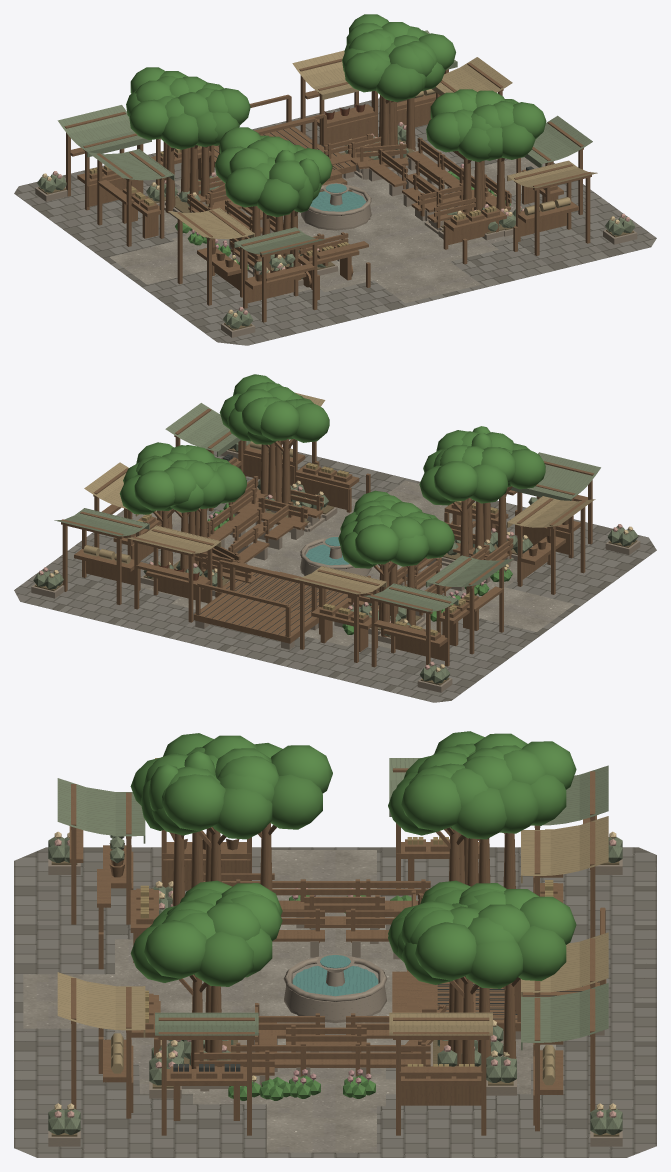
Rendered from civic.glb.
3 views of the same model, one above another, from view 1: azimuth 30°, elevation 25°; view 2: azimuth 150°, elevation 25°; view 3: azimuth 270°, elevation 25° (orthographic). The views are drawn at different scales.
Parts seen in each view (by area): view 1: market-civic-square-surface-paving, market-civic-square-stalls, market-civic-square-roof (×2), park-village-green-foliage, plaza-festival-court-foliage, market-civic-square-surface-path, park-sitting-garden-surface-path, plaza-town-square-foliage, park-promenade-foliage, park-woodland-walk-foliage, plaza-fountain-court-surface-path, plaza-fountain-court-fountain (×2) (+27 smaller); view 2: market-civic-square-surface-paving, market-civic-square-stalls, market-civic-square-roof (×2), park-village-green-foliage, park-woodland-walk-foliage, plaza-fountain-court-foliage, market-civic-square-stage, market-civic-square-surface-path, plaza-festival-court-foliage, plaza-town-square-foliage, market-civic-square-goods, market-civic-square-garden (+25 smaller); view 3: market-civic-square-surface-paving, market-civic-square-roof (×2), market-civic-square-stalls, park-village-green-foliage, market-civic-square-surface-path, park-woodland-walk-foliage, plaza-festival-court-foliage, plaza-town-square-foliage, plaza-fountain-court-foliage, plaza-fountain-court-fountain (×2), park-promenade-furniture (×2), park-promenade-foliage (+27 smaller).
Boxes of the visible parts, x1,y1,x2,y2 form: market-civic-square-surface-paving: (14,98,656,345); market-civic-square-stalls: (64,58,591,322); market-civic-square-roof (×2): (57,30,597,254); park-village-green-foliage: (183,32,501,200); plaza-festival-court-foliage: (225,90,546,217); market-civic-square-surface-path: (109,157,545,303); park-sitting-garden-surface-path: (182,171,488,276); plaza-town-square-foliage: (129,22,455,149); park-promenade-foliage: (165,29,513,256); park-woodland-walk-foliage: (156,31,514,233); plaza-fountain-court-surface-path: (158,144,515,292); plaza-fountain-court-fountain (×2): (301,183,371,230); market-civic-square-surface-paving: (14,451,656,702); market-civic-square-stalls: (61,408,594,667); market-civic-square-roof (×2): (54,392,600,611); park-village-green-foliage: (185,386,485,531); park-woodland-walk-foliage: (184,382,507,634); plaza-fountain-court-foliage: (119,455,429,568); market-civic-square-stage: (193,582,318,649); market-civic-square-surface-path: (121,480,574,631); plaza-festival-court-foliage: (219,374,545,489); plaza-town-square-foliage: (123,442,454,558); market-civic-square-goods: (83,441,568,640); market-civic-square-garden: (31,441,640,692); market-civic-square-surface-paving: (14,847,656,1157); market-civic-square-roof (×2): (57,758,608,1050); market-civic-square-stalls: (69,768,596,1135); park-village-green-foliage: (152,755,512,935); market-civic-square-surface-path: (23,850,392,1152); park-woodland-walk-foliage: (141,743,521,1100); plaza-festival-court-foliage: (130,733,260,986); plaza-town-square-foliage: (401,731,529,988); plaza-fountain-court-foliage: (468,741,576,980); plaza-fountain-court-fountain (×2): (283,953,387,1022); park-promenade-furniture (×2): (252,908,402,1052); park-promenade-foliage: (149,746,505,1098).
Bounding box in the file's own units: 16 × 4.38 × 14.
4 materials, 3 textured.
